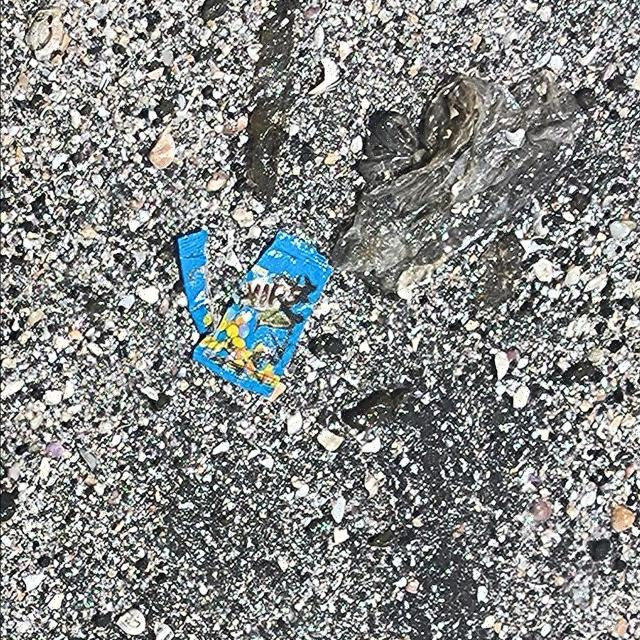plastic_waste: (177, 231, 334, 403)
